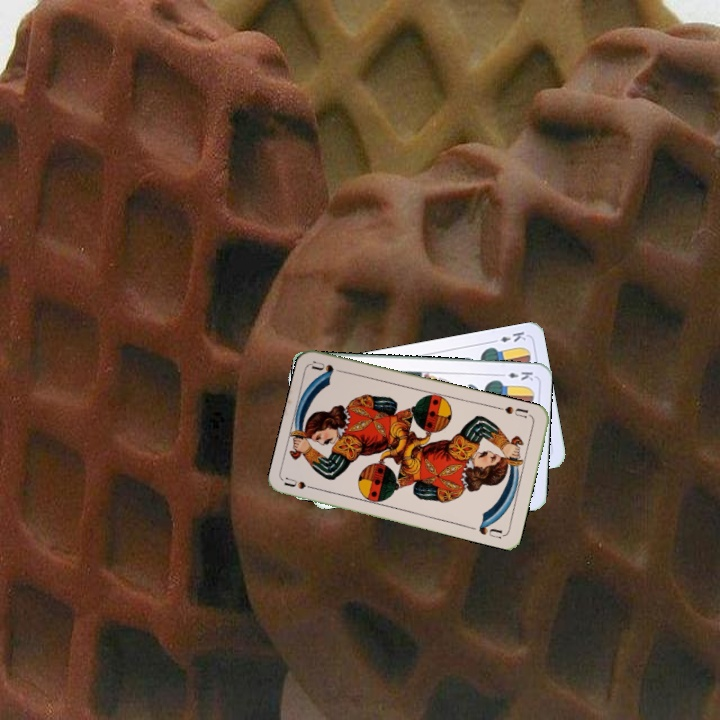EK: (488, 327, 528, 346), (495, 368, 536, 383)
SU: (281, 474, 322, 493), (494, 402, 534, 421)
